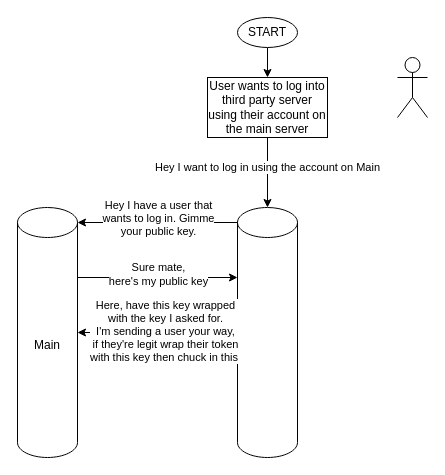
Image size: 445x475. Some labels were removed from this diagram. Each missing label, with the box of its shape:
3rd Party: (236, 206, 298, 458)
Actor: (396, 56, 428, 118)
